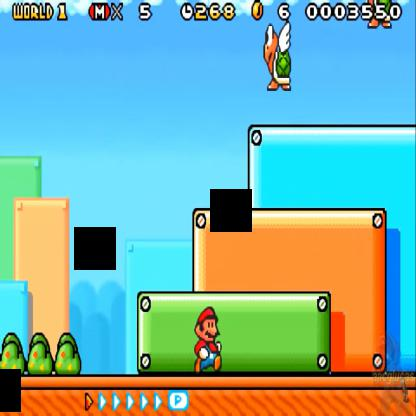Mario: (193, 304, 224, 373)
koopa: (262, 25, 291, 95)
moneda: (251, 0, 265, 19)
